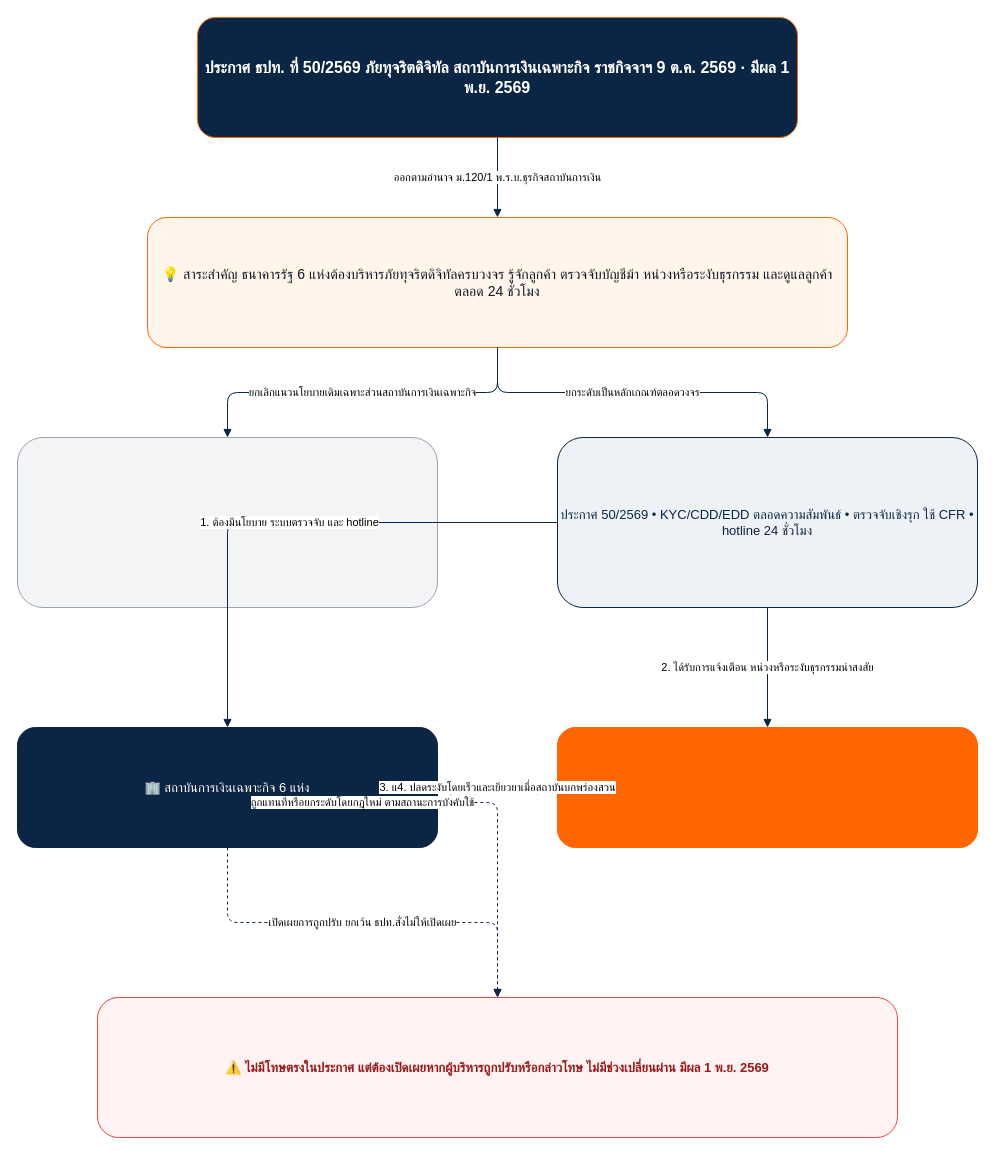
The diagram is 995 pixels wide and 1155 high, and some of its shapes have lost their labels. The centre of each missing label's shape, as x and y in pixels:
"แนวนโยบายปี 2566 และหนังสือเวียน 384/2567 • ระดับแนวนโยบาย • เน้นบัญชีเสี่ยงสูง" goes at point (227, 522).
"👤 ลูกค้าและประชาชน" goes at point (767, 787).
